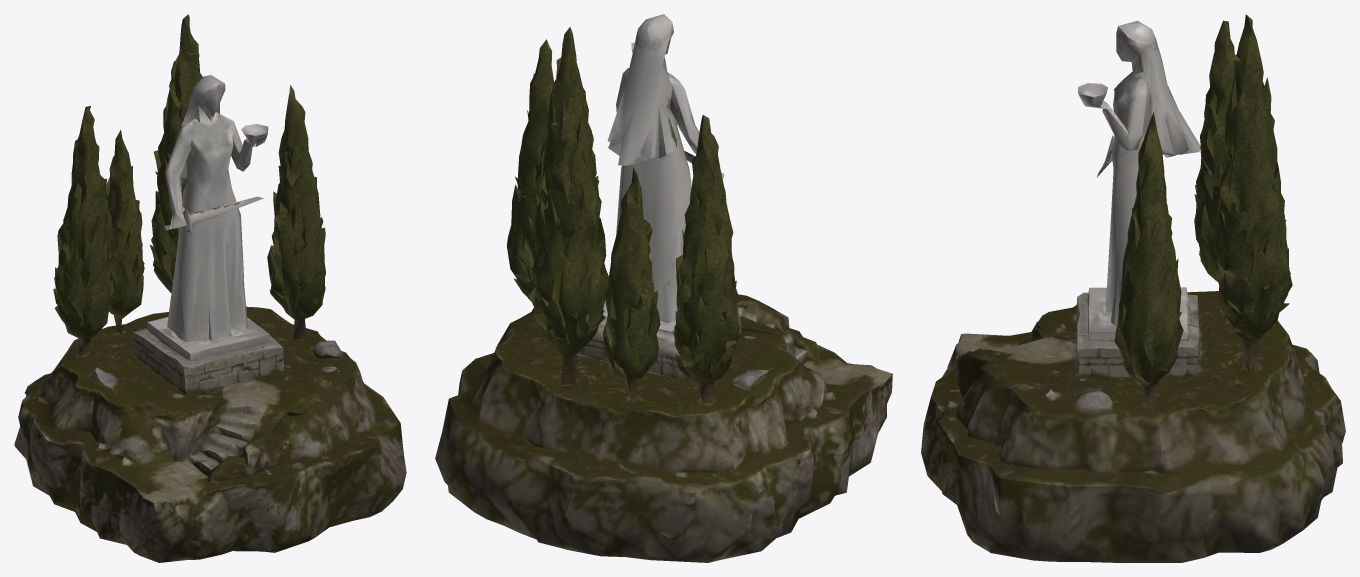
The model's file is m_tb_kartlisdeda.glb.
3 views of the same model, side by side, from view 1: azimuth 30°, elevation 25°; view 2: azimuth 150°, elevation 25°; view 3: azimuth 270°, elevation 25° (orthographic). The views are drawn at different scales.
Size of the model in its own units: 0.9508 by 1.27 by 0.9995.
1 material, 1 textured.
